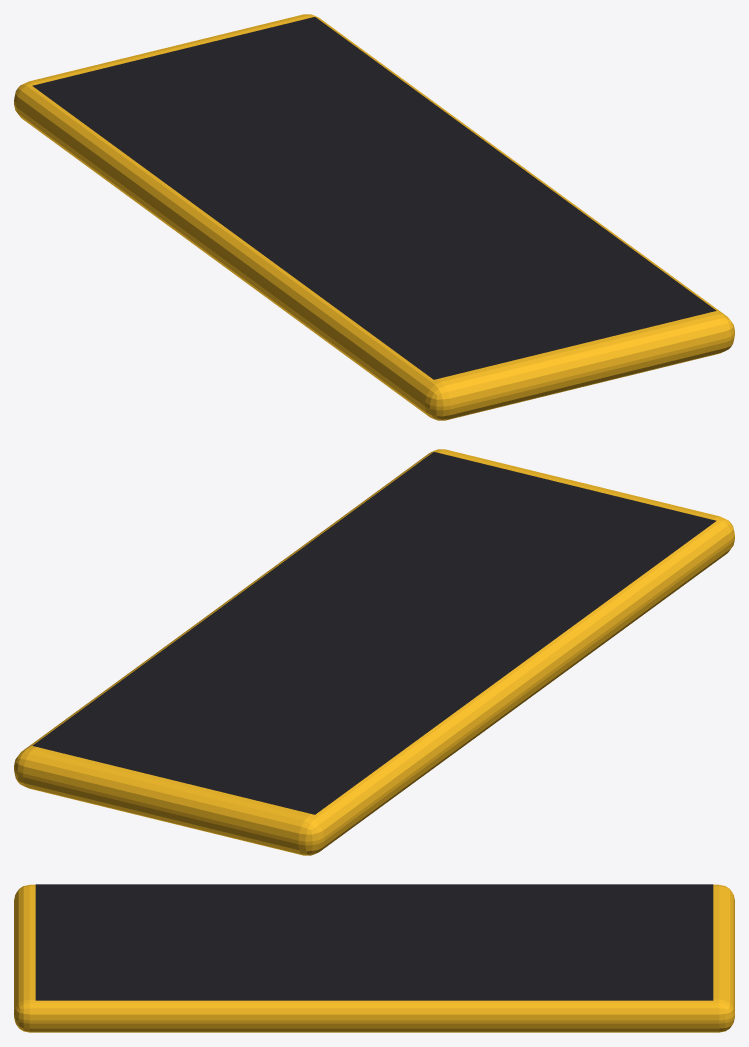
File: Phone_455.glb
3 views of the same model, one above another, from view 1: azimuth 30°, elevation 25°; view 2: azimuth 150°, elevation 25°; view 3: azimuth 270°, elevation 25° (orthographic). The views are drawn at different scales.
Visible parts, largest first — view 1: Phone_Screen, Phone_Body; view 2: Phone_Screen, Phone_Body; view 3: Phone_Screen, Phone_Body.
Boxes of the visible parts, x1,y1,x2,y2 form: Phone_Screen: [32, 17, 716, 379]; Phone_Body: [14, 14, 734, 420]; Phone_Screen: [32, 452, 716, 814]; Phone_Body: [14, 449, 734, 855]; Phone_Screen: [35, 884, 713, 1000]; Phone_Body: [14, 884, 734, 1032].
Size of the model in its own units: 0.0705 by 0.0083 by 0.1697.
